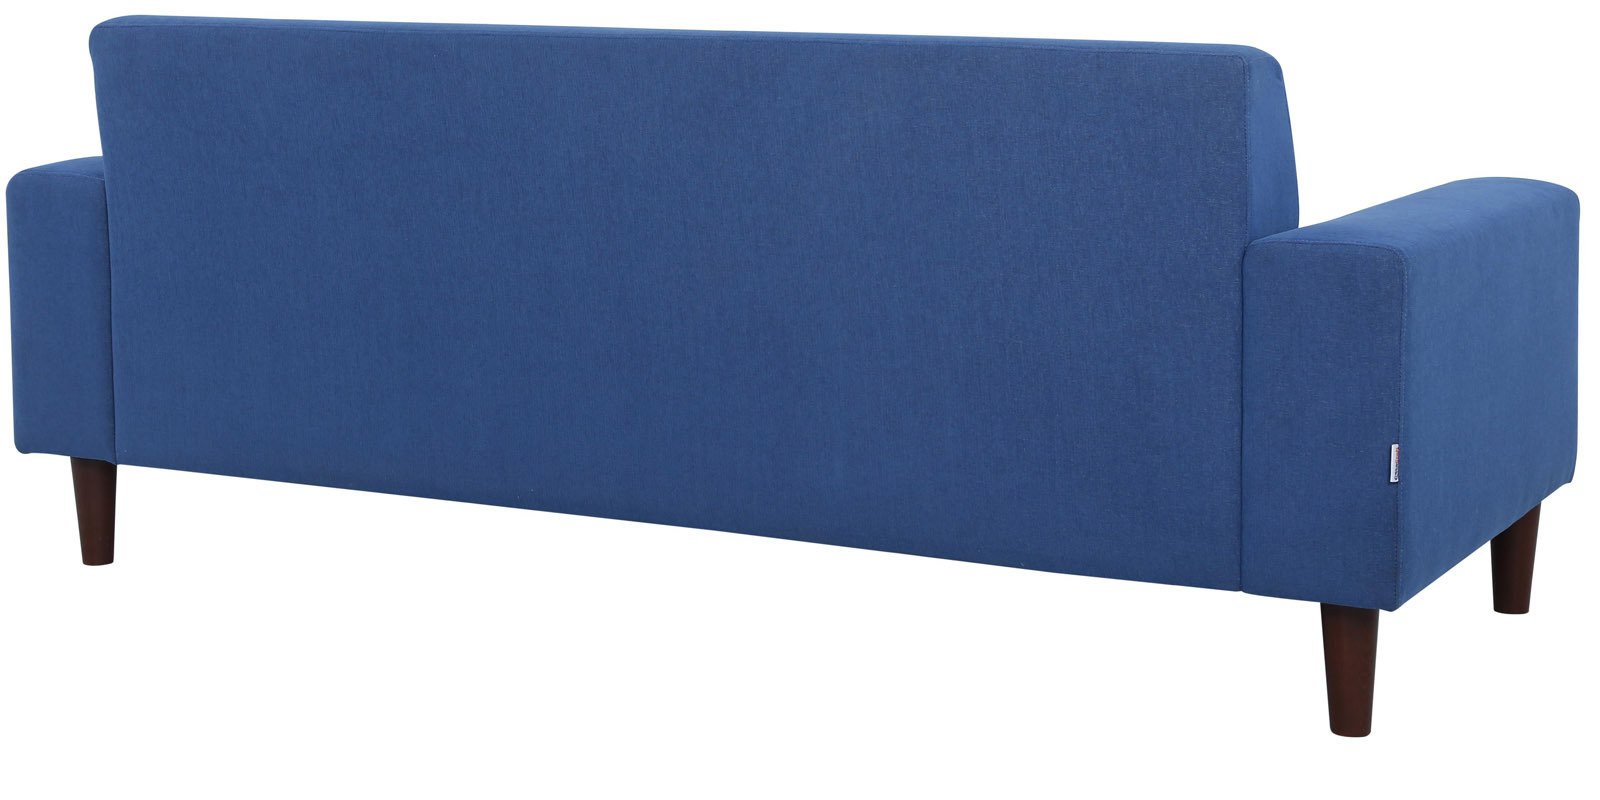Cordoba Three Seater Sofa in Denim Blue Colour by CasaCraft: (4, 9, 1585, 730)
